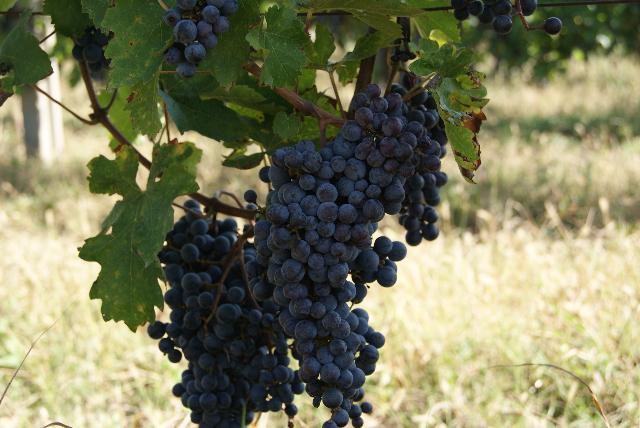grapes: (255, 84, 448, 426), (182, 219, 305, 428), (148, 218, 221, 361)
